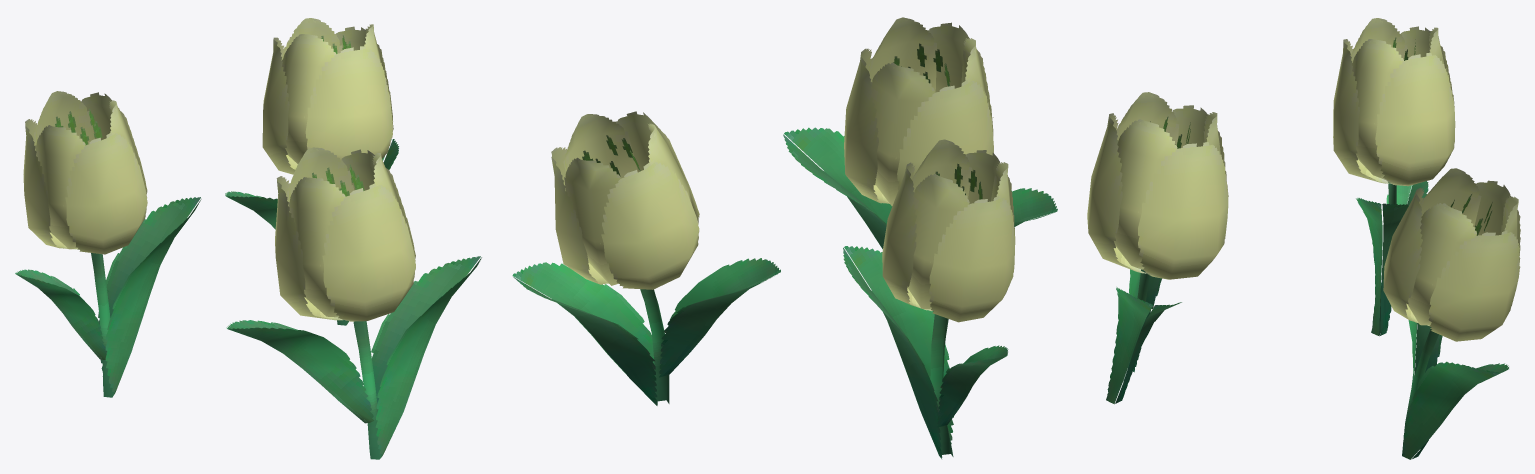
Rendered from white-tulips.glb.
3 views of the same model, side by side, from view 1: azimuth 30°, elevation 25°; view 2: azimuth 150°, elevation 25°; view 3: azimuth 270°, elevation 25° (orthographic). The views are drawn at different scales.
Bounding box in the file's own units: 9.86 × 6.64 × 8.68.
Materials: 2 (2 with a texture image).
